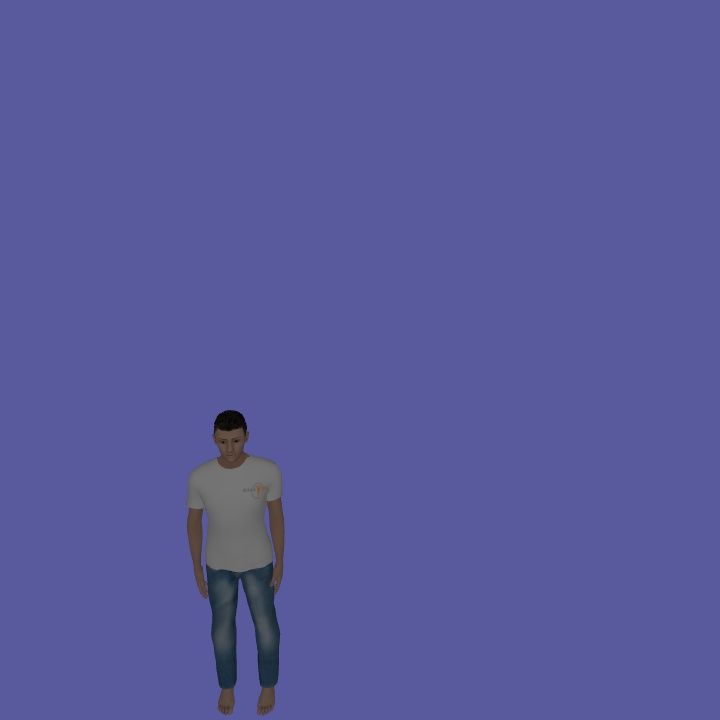victim: (183, 406, 285, 716)
